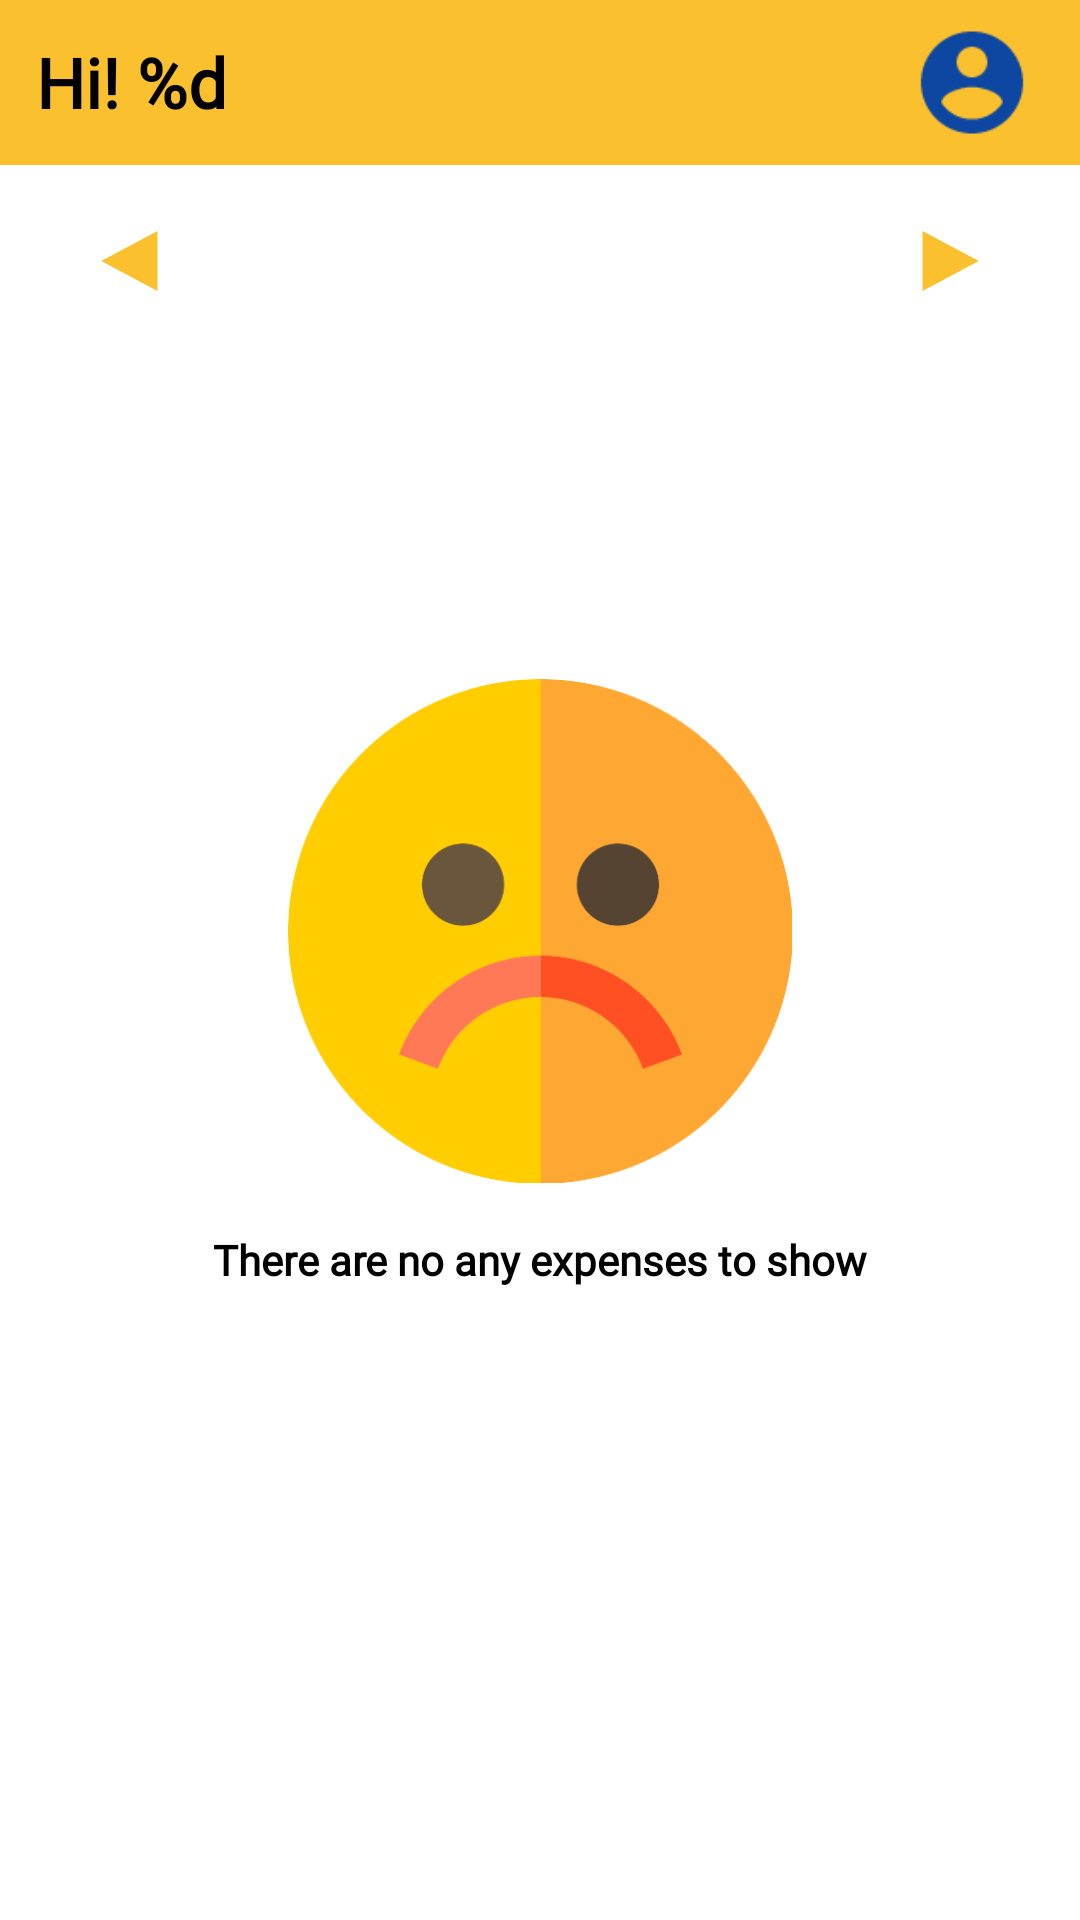

Where icons sit on this 1080x1920 app screen, as (x1,y1,x2,y2):
arrow left: (101,231,158,291)
arrow right: (922,231,979,291)
